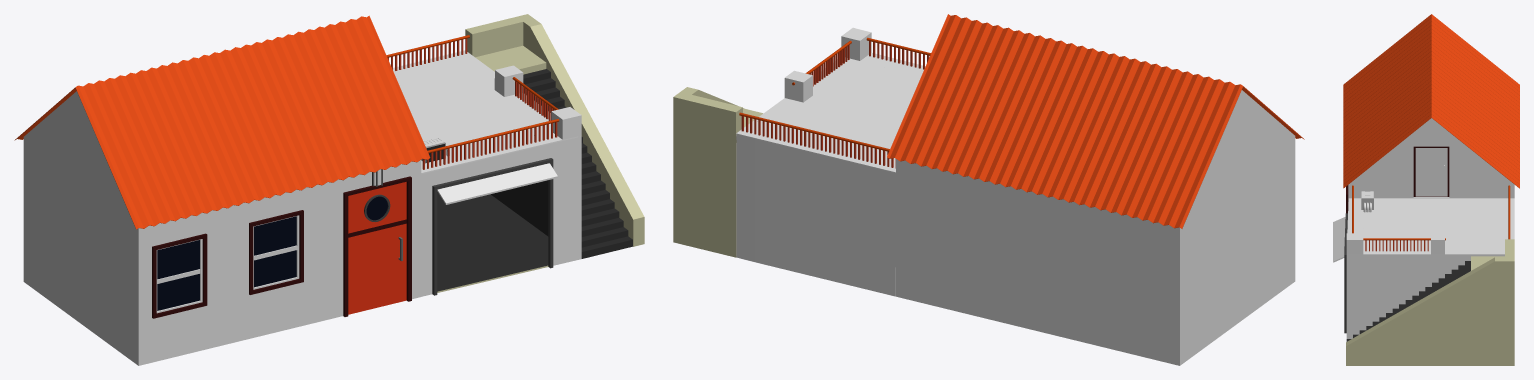
File: House_2.fbx
3 views of the same model, side by side, from view 1: azimuth 30°, elevation 25°; view 2: azimuth 150°, elevation 25°; view 3: azimuth 270°, elevation 25° (orthographic). The views are drawn at different scales.
Parts seen in each view (by area): view 1: Plane.024; view 2: Plane.024; view 3: Plane.024.
Part boxes in pixels (box(x1,y1,x2,y2)): Plane.024: box(14, 14, 644, 365); Plane.024: box(673, 14, 1304, 365); Plane.024: box(1333, 14, 1519, 365).
Bounding box in the file's own units: 1878 × 841 × 823.
